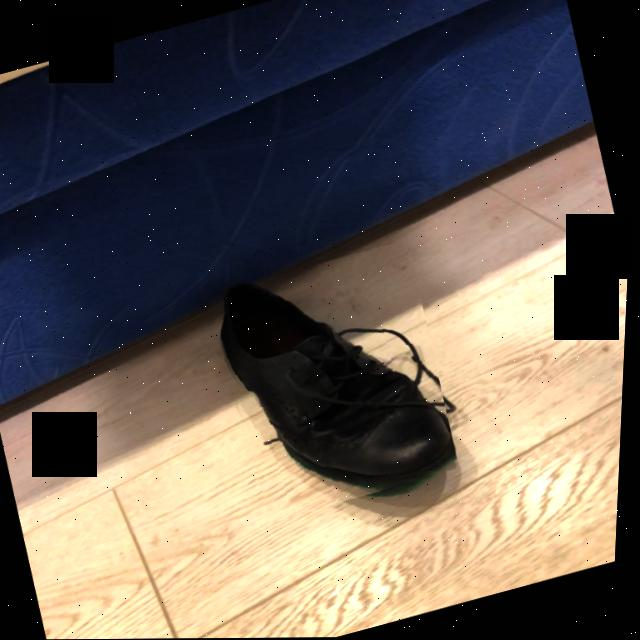shoe: (223, 283, 461, 487)
